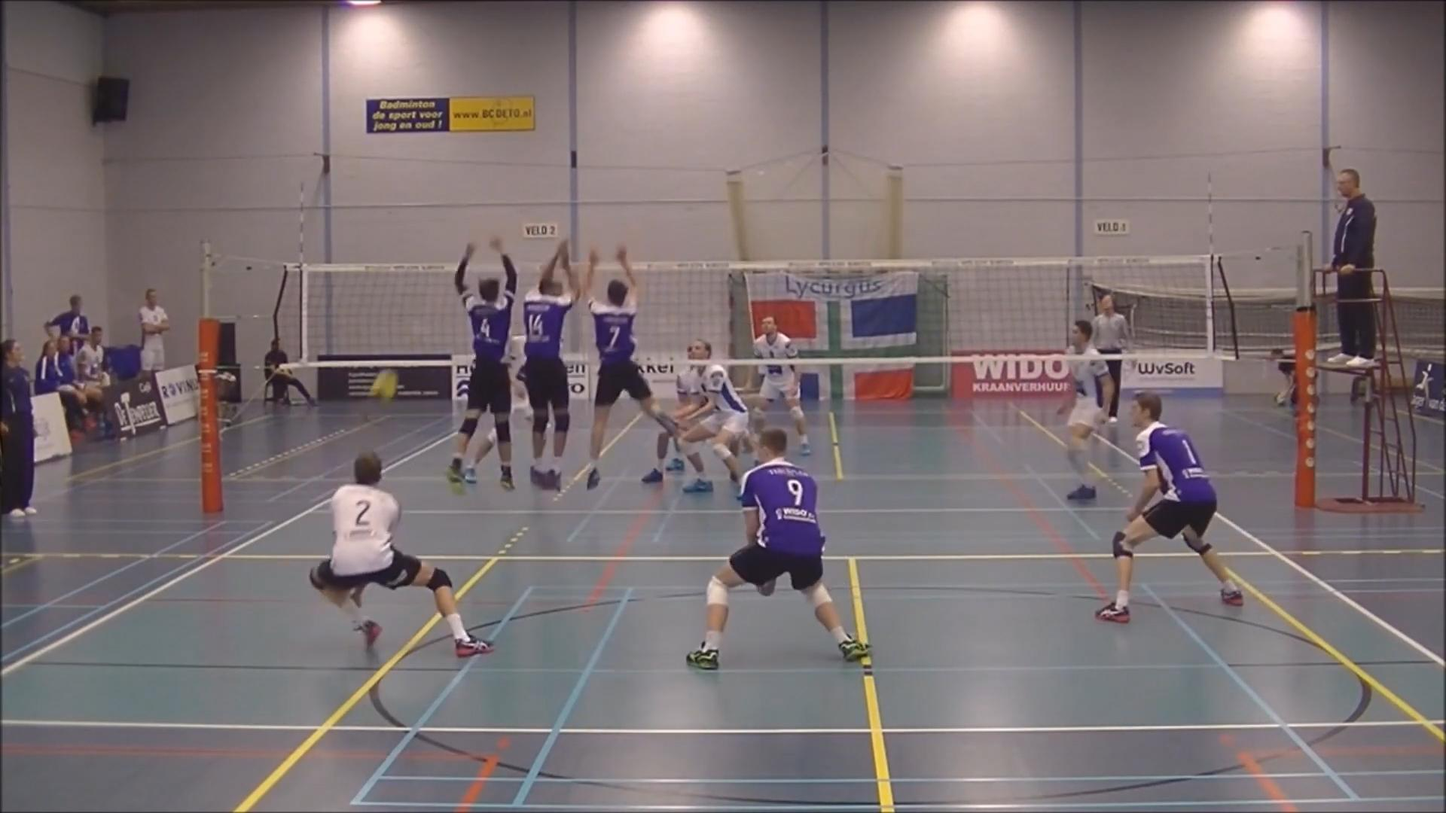Block: (565, 243, 718, 491), (516, 226, 584, 493), (452, 235, 518, 497)
Player: (687, 428, 869, 669), (310, 452, 492, 656), (1096, 393, 1243, 623), (1058, 320, 1113, 500), (678, 364, 755, 483), (753, 316, 810, 455), (642, 431, 712, 492), (505, 336, 532, 421)
ball: (358, 371, 409, 404)
